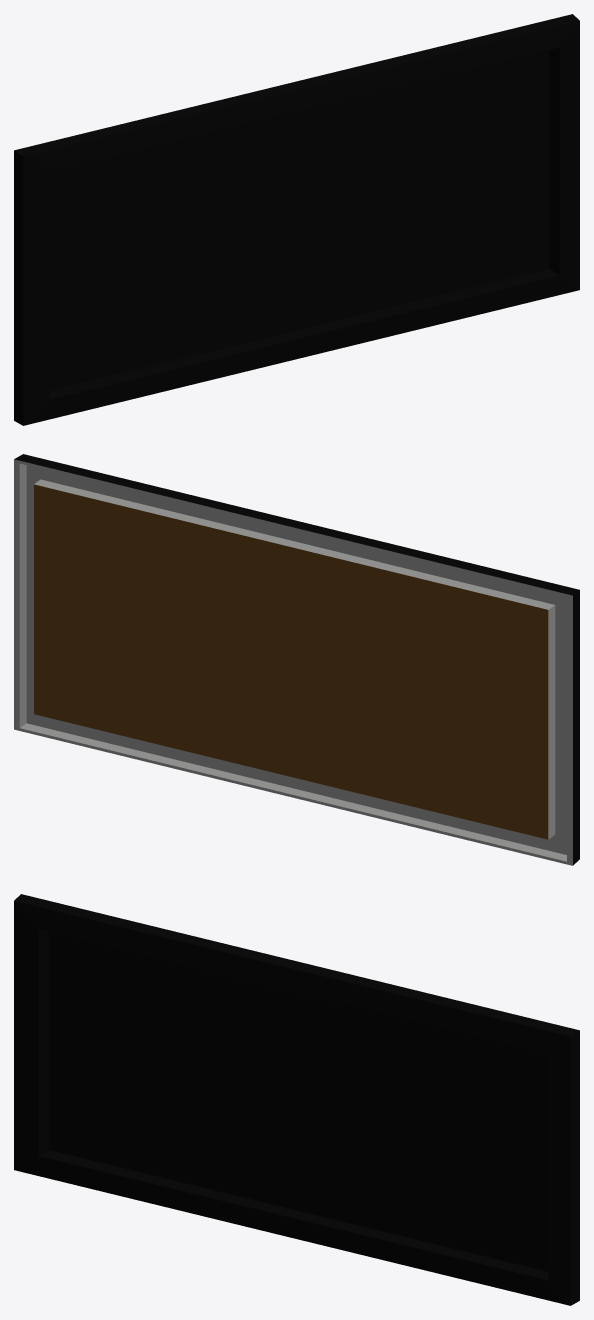
Rendered from tablo 1.fbx.
The picture shows the model from 3 angles, top to bottom: view 1: azimuth 30°, elevation 25°; view 2: azimuth 150°, elevation 25°; view 3: azimuth 330°, elevation 25°; orthographic projection.
Visible parts, largest first — view 1: Plane; view 2: Plane; view 3: Plane.
Part boxes in pixels (x1,y1,x2,y2): Plane: [14, 14, 579, 425]; Plane: [14, 454, 579, 865]; Plane: [14, 894, 579, 1305].
Size of the model in its own units: 1083 by 501 by 30.38.
